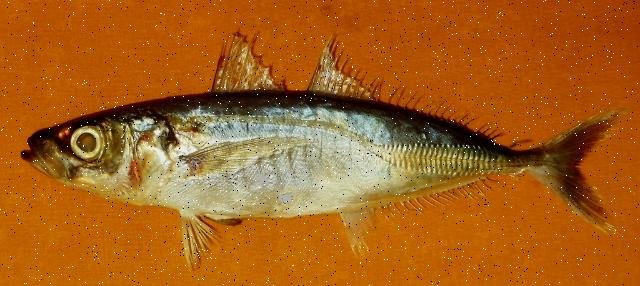Mulut: (13, 124, 55, 184)
Sirip Anal: (338, 169, 520, 261)
Sirip Dada: (182, 133, 310, 183)
Sirip Ekor: (541, 94, 633, 242)
Sirip Perut: (174, 198, 244, 274)
Sirip Punggung: (200, 13, 386, 108)
